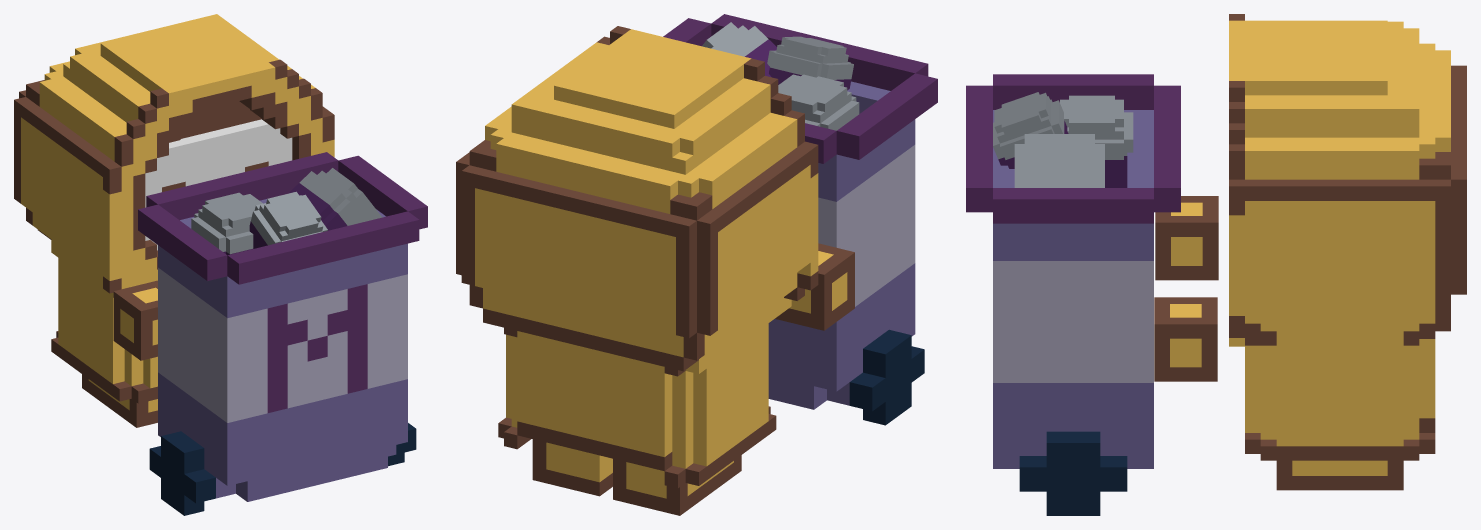
Rendered from p1PlasticDizzy.gltf.
3 renders of one model, left to right at view 1: azimuth 30°, elevation 25°; view 2: azimuth 150°, elevation 25°; view 3: azimuth 270°, elevation 25°, orthographic. The views are drawn at different scales.
Visible parts, largest first — view 1: Yup2Zup.001; view 2: Yup2Zup.001; view 3: Yup2Zup.001.
Part boxes in pixels (x1,y1,x2,y2): Yup2Zup.001: (14,14,427,515); Yup2Zup.001: (456,14,937,515); Yup2Zup.001: (966,14,1466,515).
Size of the model in its own units: 1.93 by 2.82 by 3.16.
Materials: 7 (7 with a texture image).
